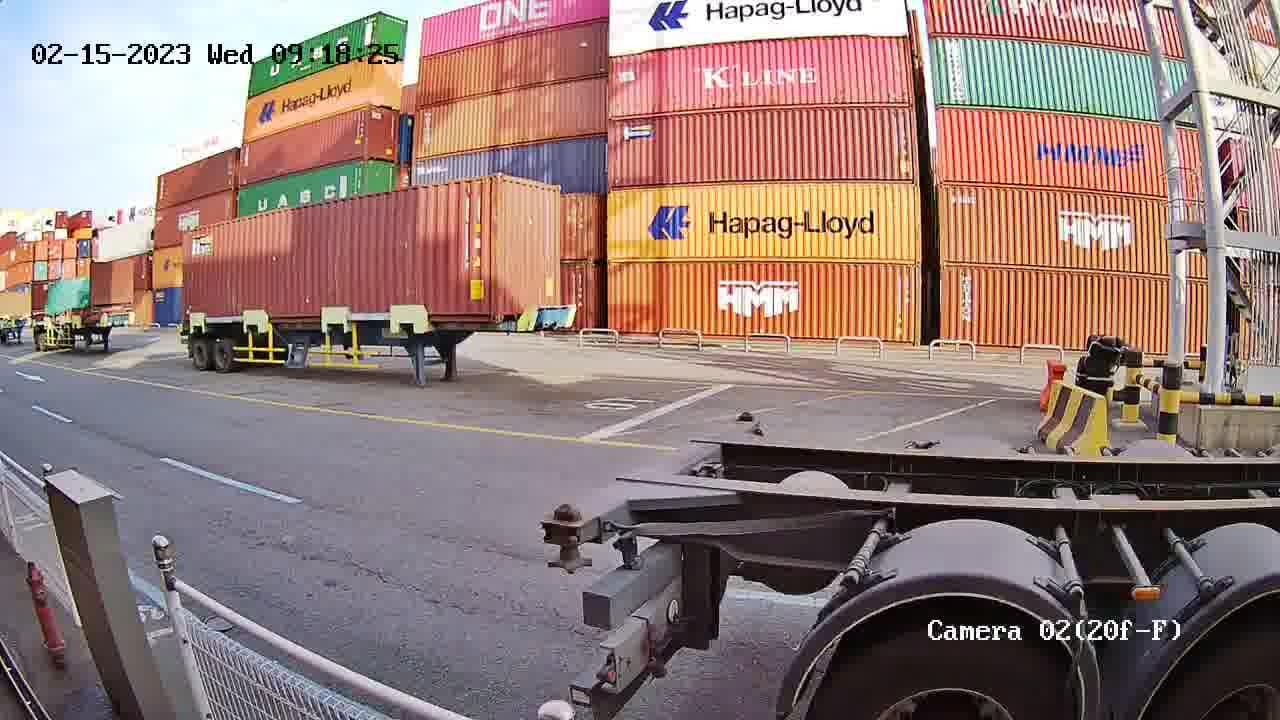Chassis: (580, 420, 761, 539)
Cone: (545, 506, 594, 572), (732, 407, 763, 430)
Tire: (815, 626, 1082, 717), (1174, 627, 1275, 713)
